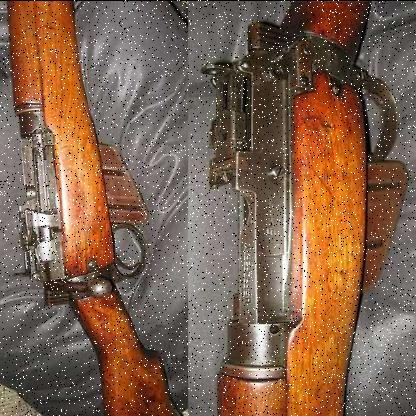rifle: (200, 1, 415, 416), (0, 0, 184, 416)
